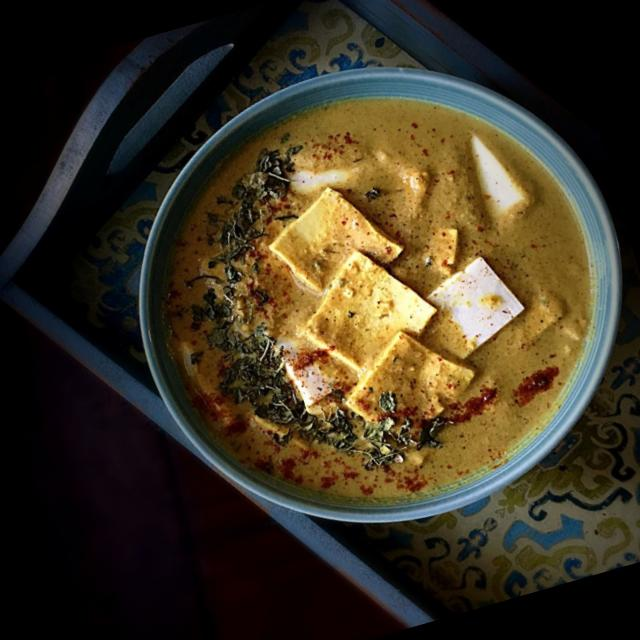ShahiPaneer: (110, 43, 640, 554)
